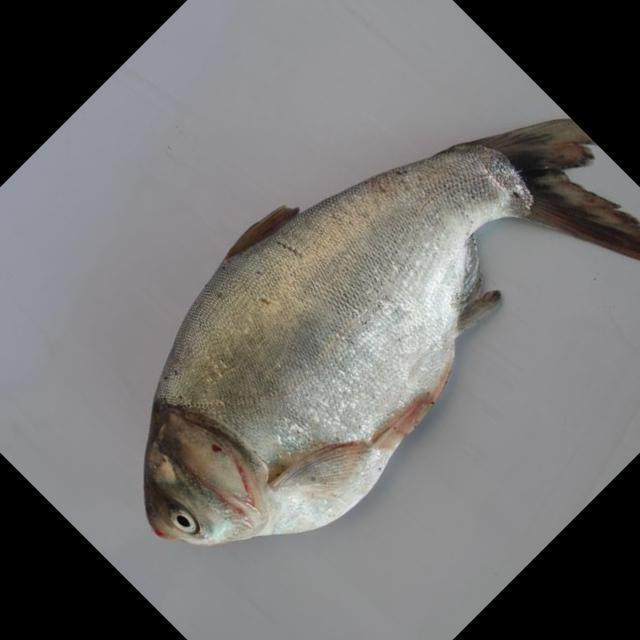Silver Carp: (140, 98, 640, 547)
